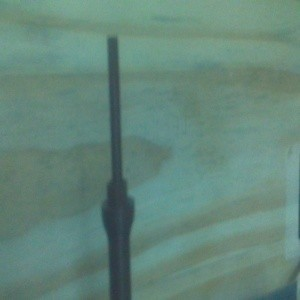obeng: (101, 34, 136, 300)
